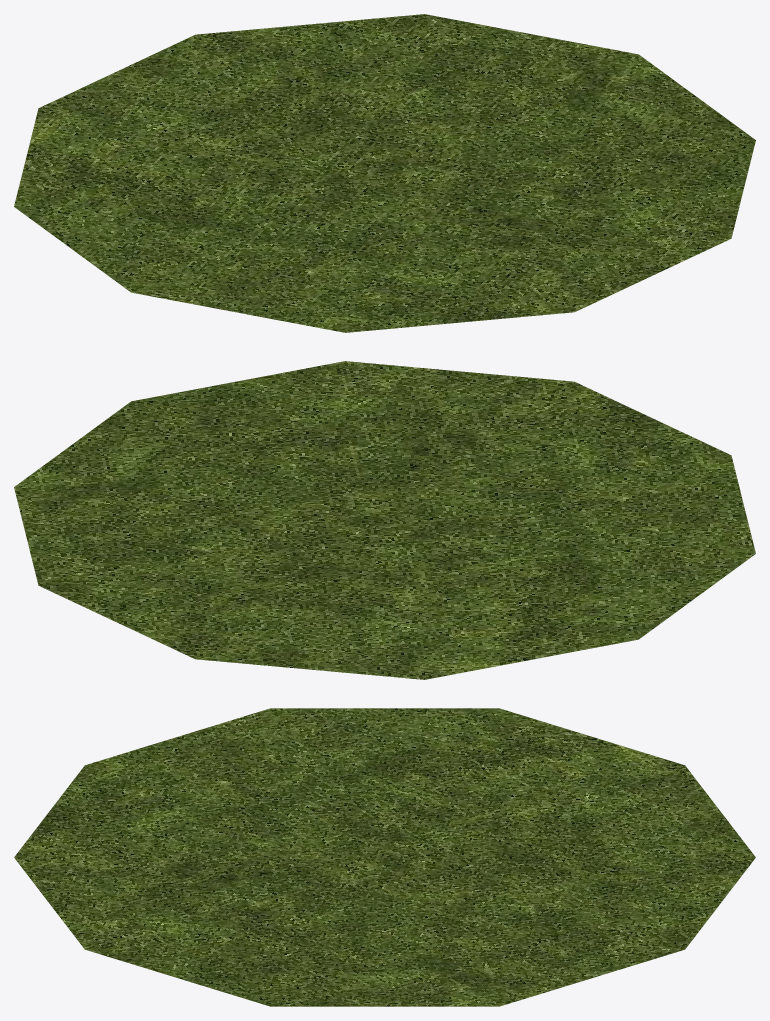
Rendered from grass_circle.glb.
3 views of the same model, one above another, from view 1: azimuth 30°, elevation 25°; view 2: azimuth 150°, elevation 25°; view 3: azimuth 270°, elevation 25° (orthographic). The views are drawn at different scales.
Parts seen in each view (by area): view 1: Circle; view 2: Circle; view 3: Circle.
Part boxes in pixels (x1,y1,x2,y2): Circle: (14, 14, 755, 332); Circle: (14, 361, 755, 679); Circle: (14, 708, 755, 1006).
Bounding box in the file's own units: 5.51 × 0 × 5.79.
Materials: 1 (1 with a texture image).
